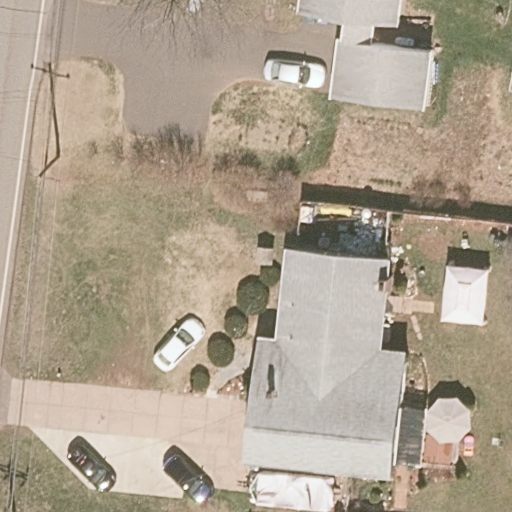DT: (30, 155, 61, 184)
